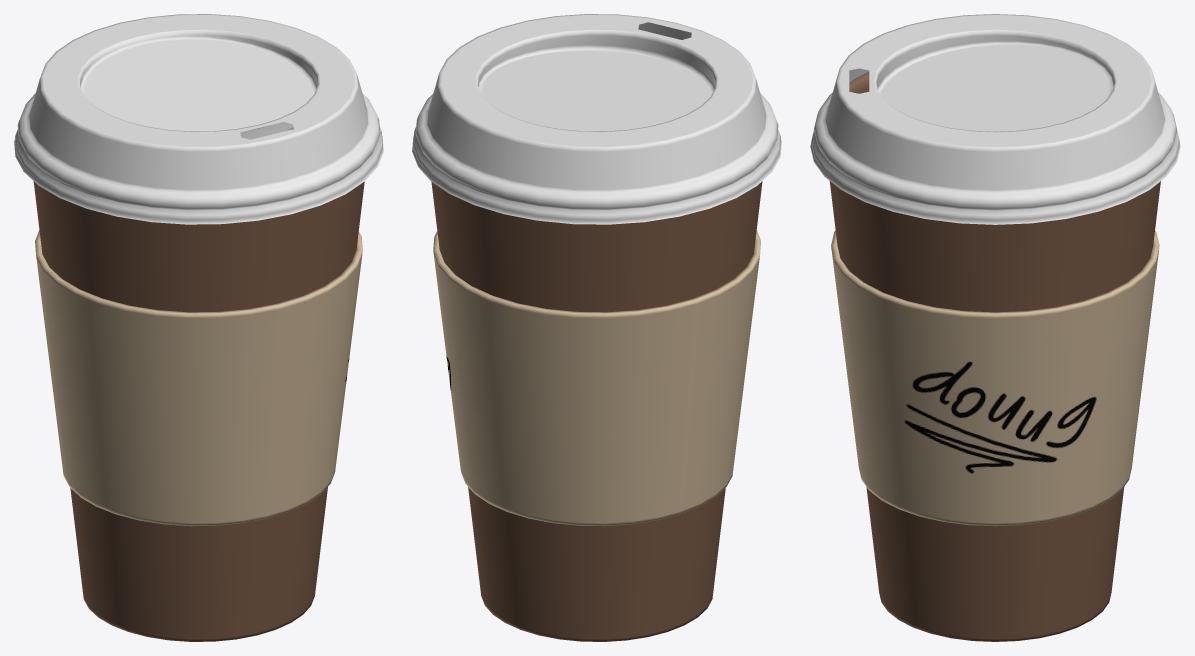
Rendered from coffee-cup.glb.
The picture shows the model from 3 angles, left to right: view 1: azimuth 30°, elevation 25°; view 2: azimuth 150°, elevation 25°; view 3: azimuth 270°, elevation 25°; orthographic projection.
Visible parts, largest first — view 1: Sleeve, Lid, Cup; view 2: Sleeve, Lid, Cup; view 3: Sleeve, Lid, Cup.
Part boxes in pixels (x1,y1,x2,y2): Sleeve: [35, 230, 362, 526]; Lid: [14, 14, 383, 224]; Cup: [33, 181, 364, 641]; Sleeve: [433, 230, 760, 526]; Lid: [412, 14, 781, 224]; Cup: [431, 181, 762, 641]; Sleeve: [831, 230, 1159, 526]; Lid: [810, 14, 1180, 224]; Cup: [829, 73, 1160, 641].
Bounding box in the file's own units: 3.19 × 4.86 × 3.19.
3 materials, 1 textured.
